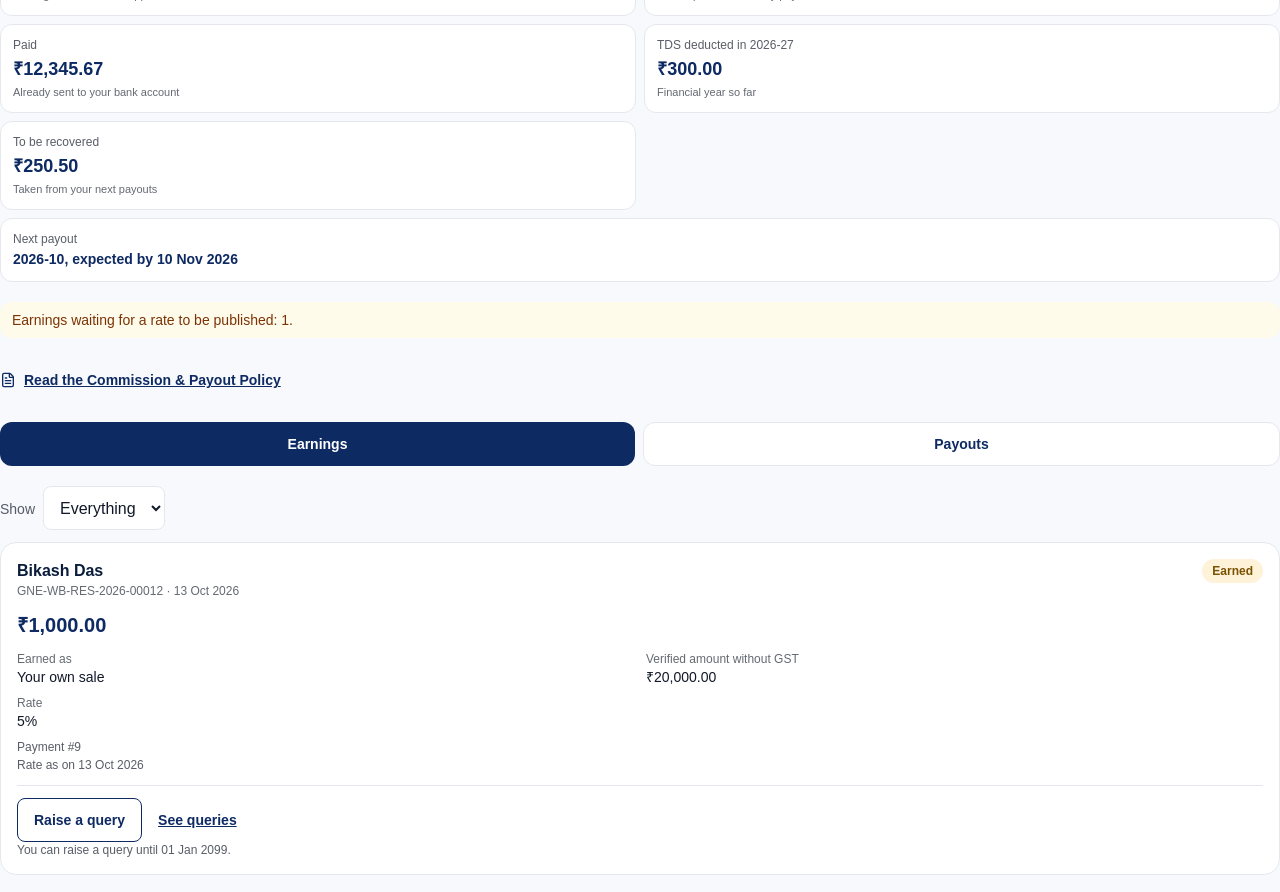
Test: Raise a query (E3) › sends the trimmed message and confirms
The image size is (1280, 892).
(page scrolled)
Click the button "Raise a query": (80, 820) [17,798,142,842]
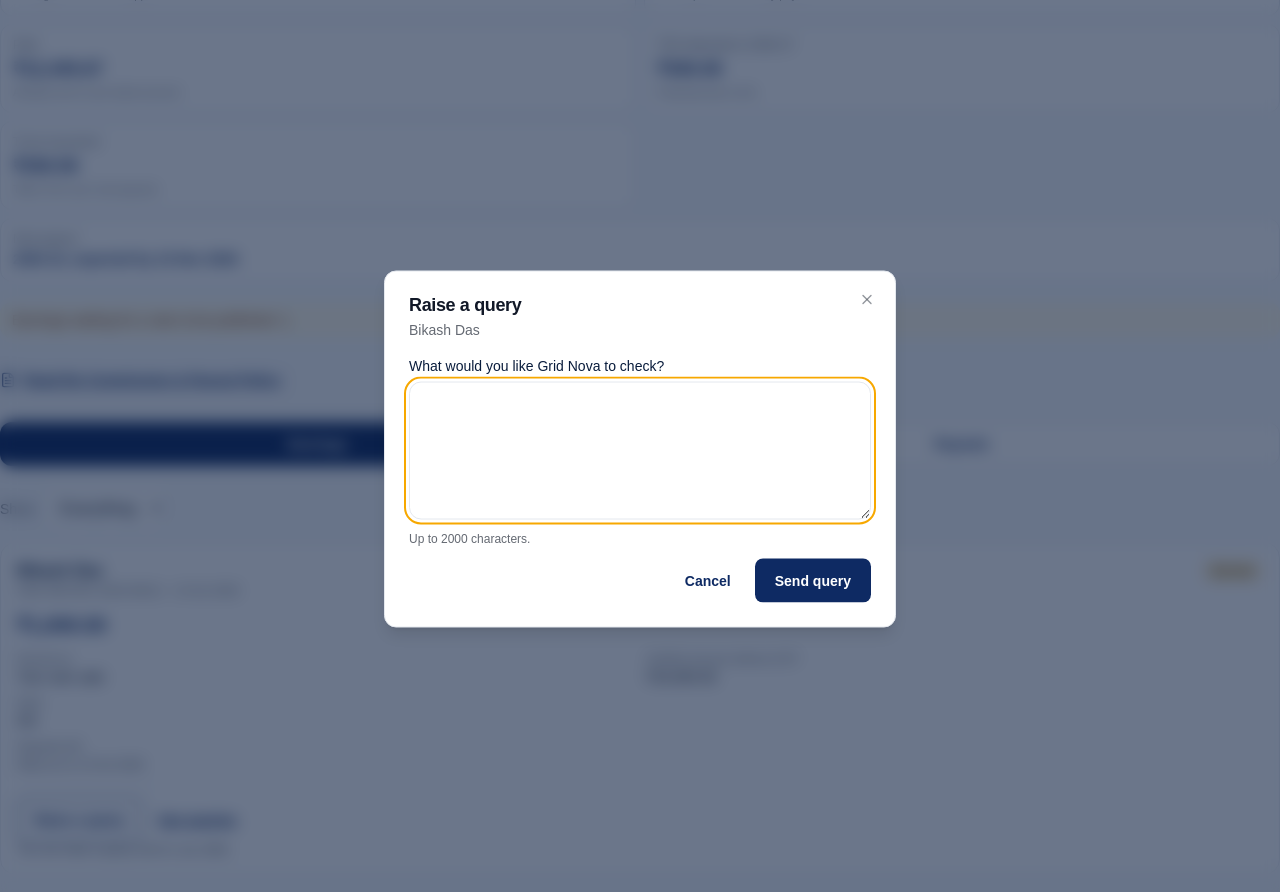
In the text box labelled "What would you like Grid Nova to check?": (640, 450) [409,382,871,520], type "  Why 5%?  "
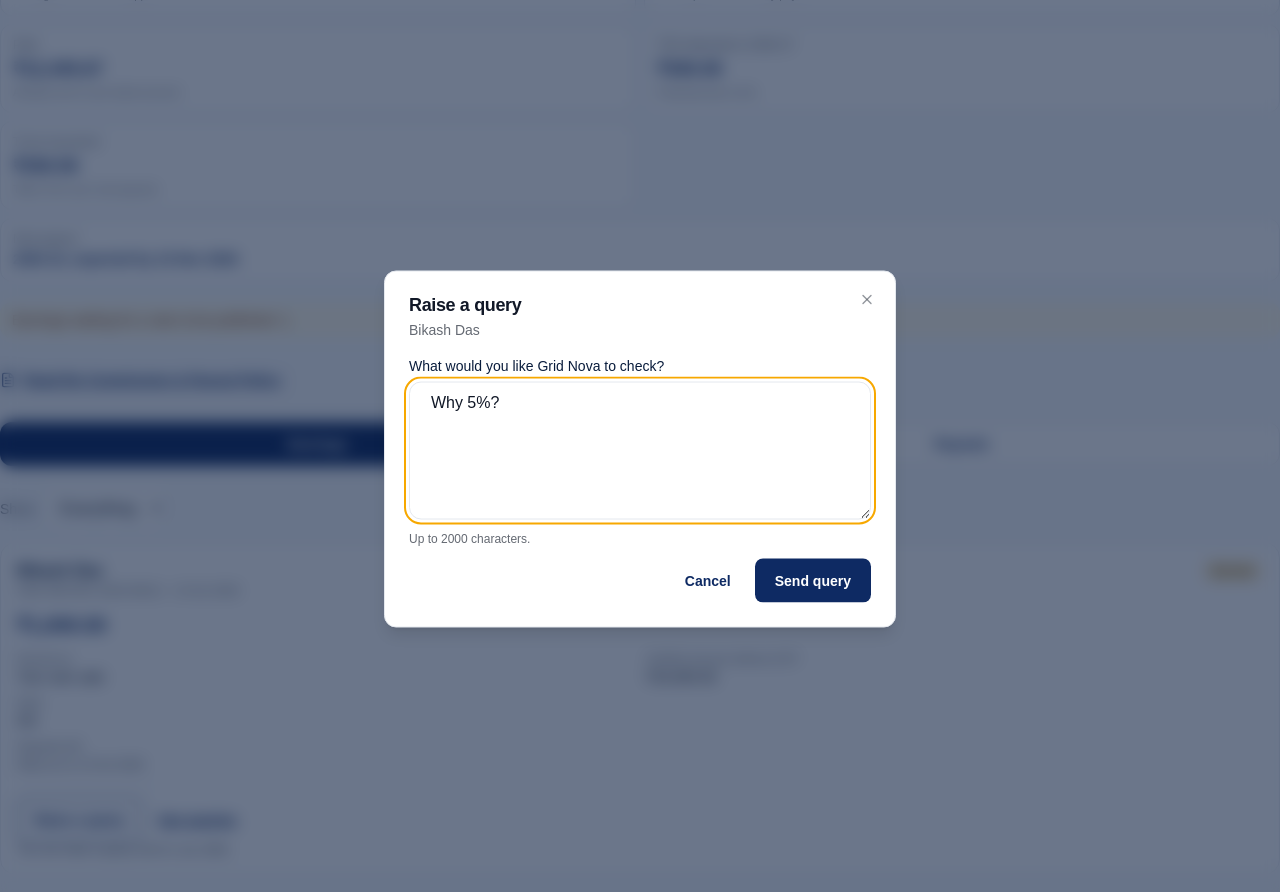
Click the button "Send query": (813, 580) [755,558,871,602]
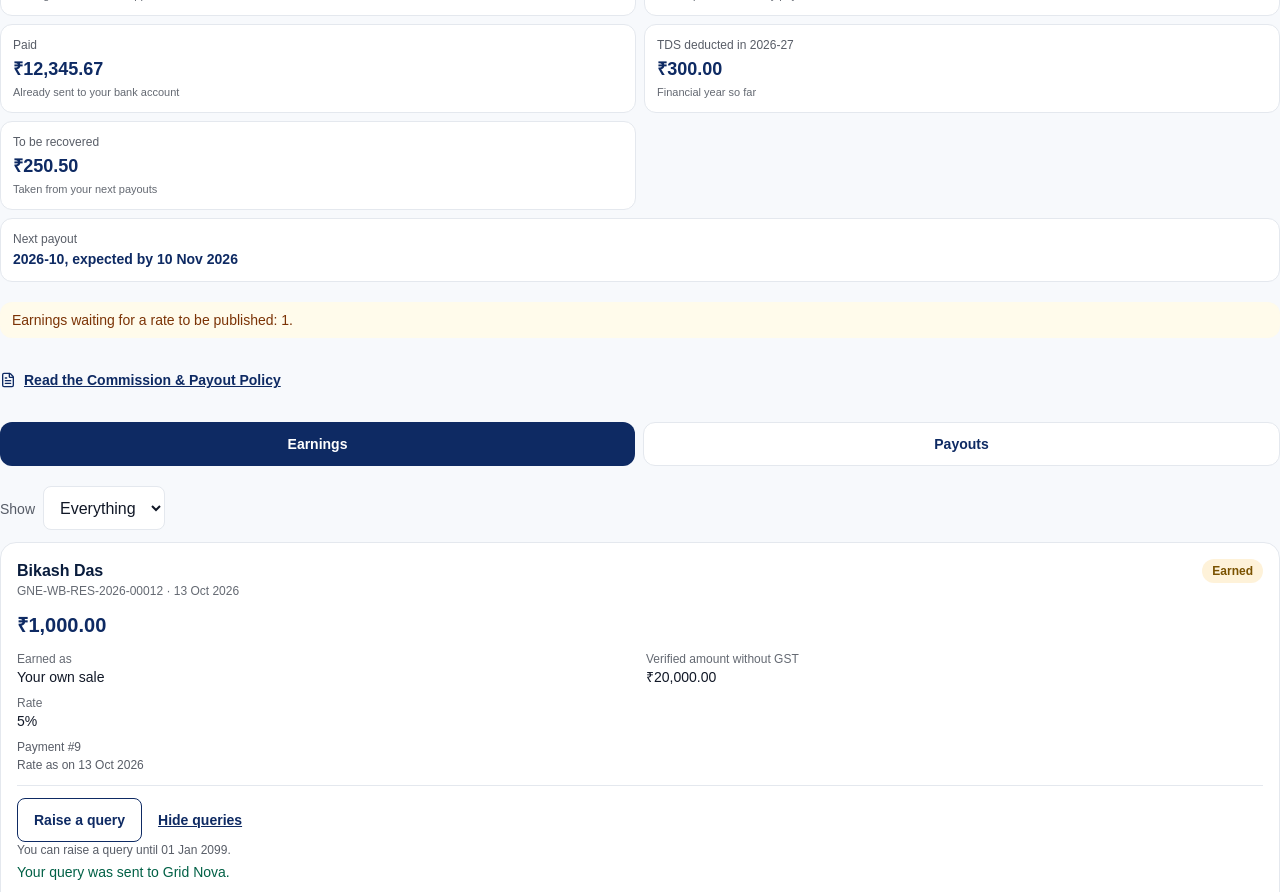
Check: the text "Your query was sent to Grid Nova." is shown, box [17,864,230,880]
